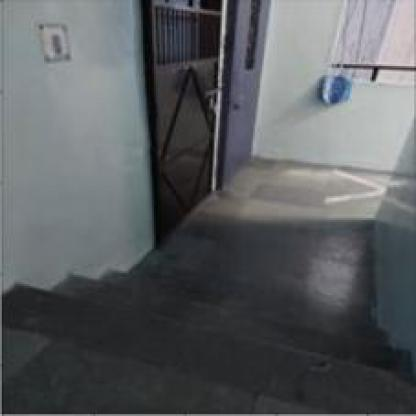stair_down: (80, 246, 272, 358)
